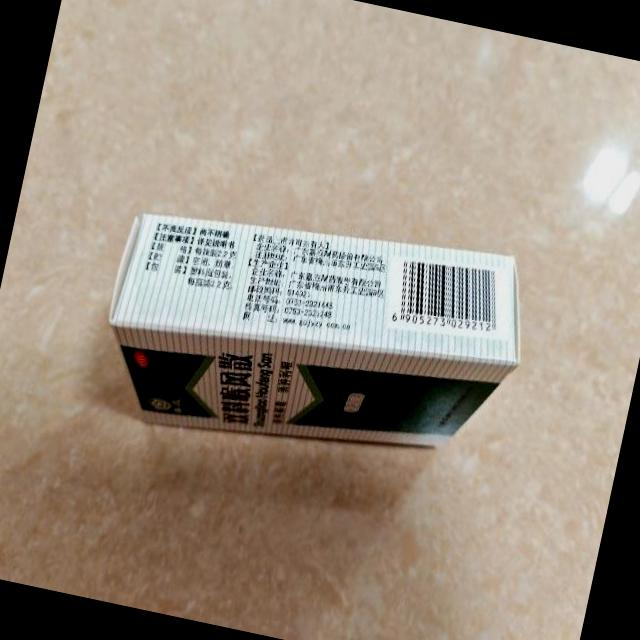box: (88, 176, 540, 494)
